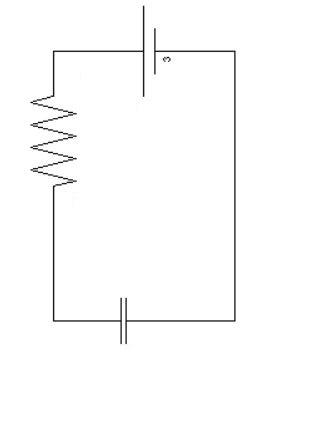resistor: (17, 76, 98, 198)
